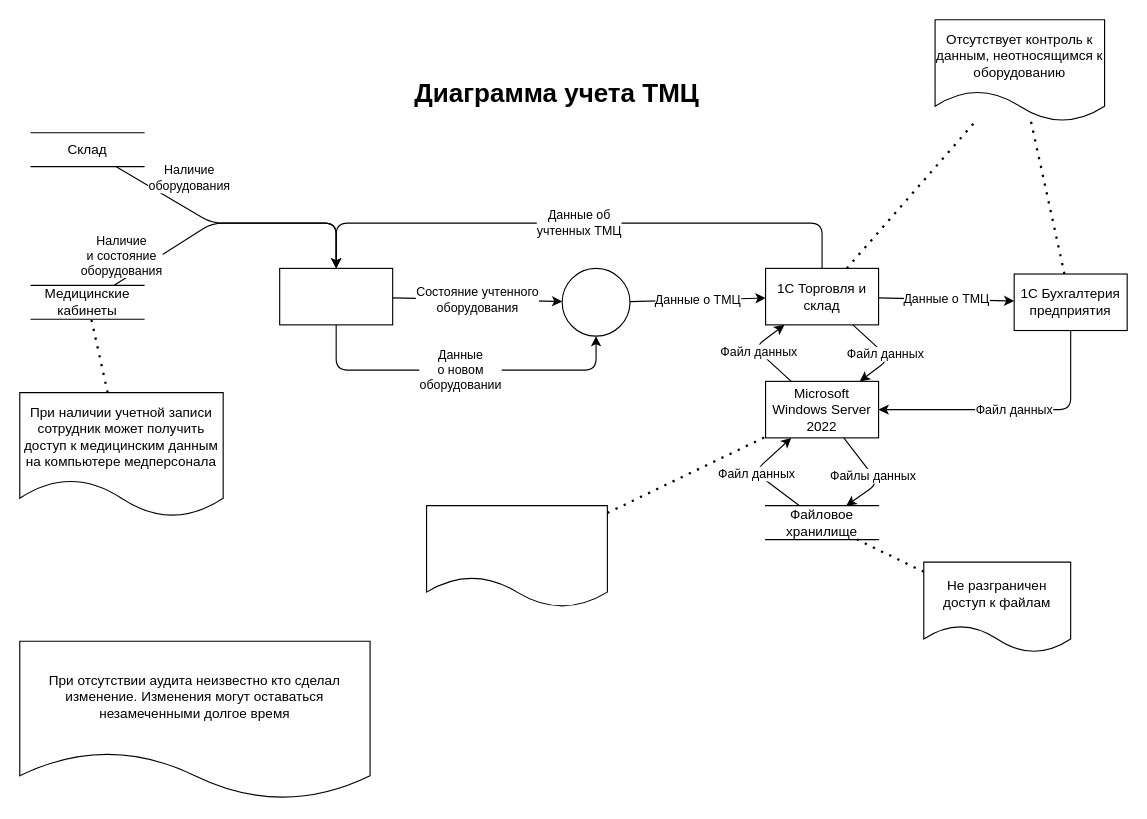
This 1147x819 diagram has some shape labels left out. The shapes that lost their labels are listed below. From the top down, each one's centre as x and y in pixels, then its label:
At point 336,296: "Сотрудник склада".
At point 595,301: "Учет ТМЦ".
At point 516,556: "У всех есть персональные УЗ".
